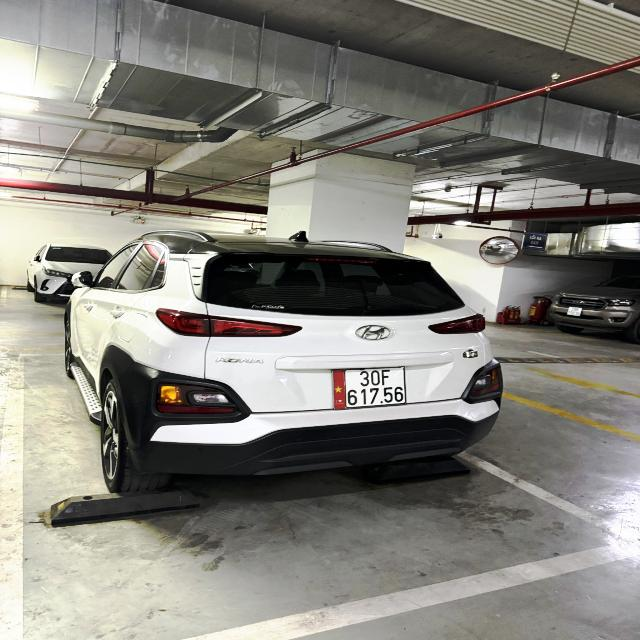license_plate: (330, 365, 411, 414), (567, 307, 585, 318)
